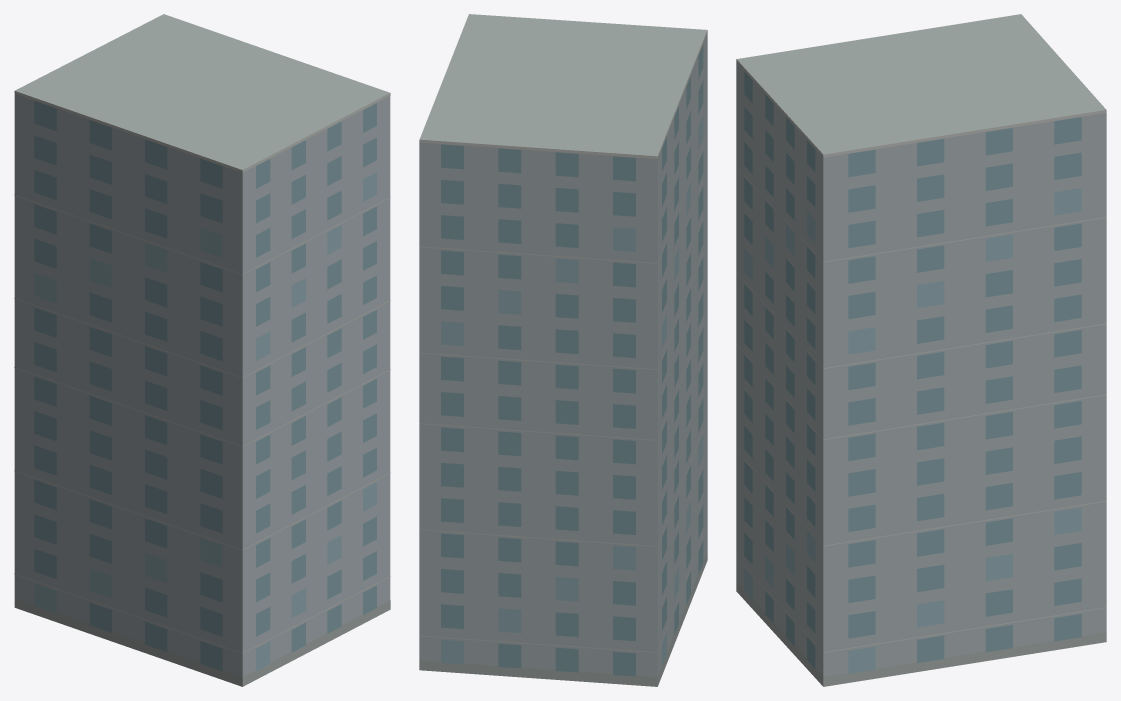
Rendered from survey-upis-32860570.glb.
3 views of the same model, side by side, from view 1: azimuth 30°, elevation 25°; view 2: azimuth 150°, elevation 25°; view 3: azimuth 270°, elevation 25° (orthographic). The views are drawn at different scales.
Visible parts, largest first — view 1: survey-upis-32860570.tmp; view 2: survey-upis-32860570.tmp; view 3: survey-upis-32860570.tmp.
Boxes of the visible parts, box(x1,y1,x2,y2) form: survey-upis-32860570.tmp: box(14, 14, 390, 686); survey-upis-32860570.tmp: box(419, 14, 707, 686); survey-upis-32860570.tmp: box(736, 14, 1106, 686).
Bounding box in the file's own units: 25.95 × 45.75 × 28.85.
